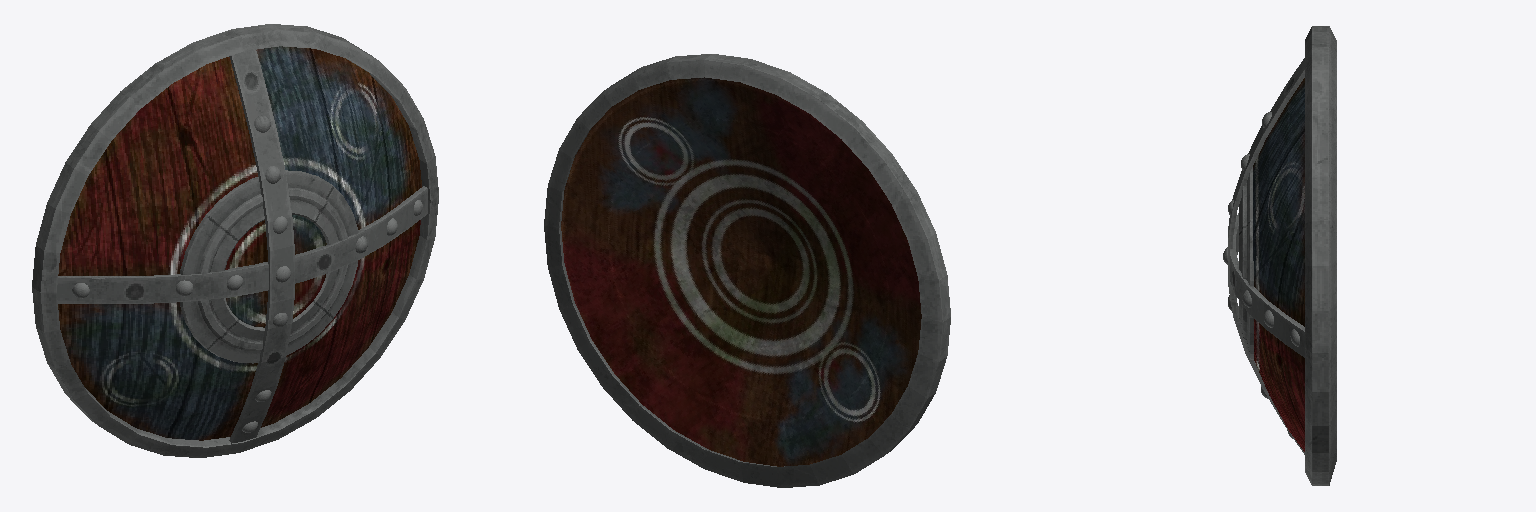
3 views of the same model, side by side, from view 1: azimuth 30°, elevation 25°; view 2: azimuth 150°, elevation 25°; view 3: azimuth 270°, elevation 25° (orthographic).
Parts seen in each view (by area): view 1: Wood_low_Cylinder.005, Outer_low_Cylinder.004, Center_low_Circle, Brace1_low_Plane.003, Brace2_low_Plane.004, Bolts1_low_Sphere.003, Bolts2_low_Sphere.002; view 2: Wood_low_Cylinder.005, Outer_low_Cylinder.004; view 3: Outer_low_Cylinder.004, Wood_low_Cylinder.005, Brace1_low_Plane.003, Brace2_low_Plane.004, Center_low_Circle.
Part boxes in pixels (left/top/right/bottom): Wood_low_Cylinder.005: left=58, top=46, right=421, bottom=440; Outer_low_Cylinder.004: left=32, top=24, right=438, bottom=457; Center_low_Circle: left=180, top=170, right=357, bottom=363; Brace1_low_Plane.003: left=229, top=50, right=294, bottom=443; Brace2_low_Plane.004: left=57, top=186, right=427, bottom=303; Bolts1_low_Sphere.003: left=72, top=200, right=422, bottom=298; Bolts2_low_Sphere.002: left=242, top=115, right=287, bottom=432; Wood_low_Cylinder.005: left=561, top=77, right=921, bottom=466; Outer_low_Cylinder.004: left=544, top=54, right=950, bottom=487; Outer_low_Cylinder.004: left=1305, top=26, right=1336, bottom=485; Wood_low_Cylinder.005: left=1253, top=78, right=1304, bottom=451; Brace1_low_Plane.003: left=1228, top=58, right=1304, bottom=454; Brace2_low_Plane.004: left=1230, top=213, right=1304, bottom=357; Center_low_Circle: left=1239, top=167, right=1253, bottom=359.
Bounding box in the file's own units: 2.11 × 2.11 × 0.5217.
Materials: 1 (1 with a texture image).